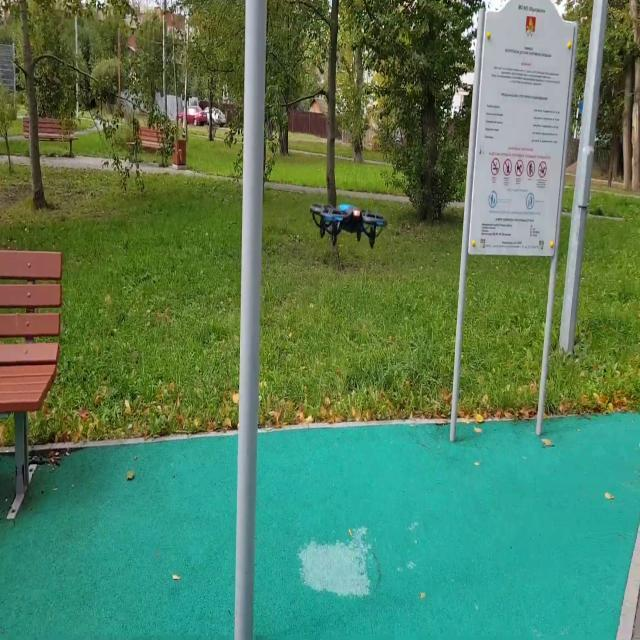Drons: (306, 200, 386, 252)
